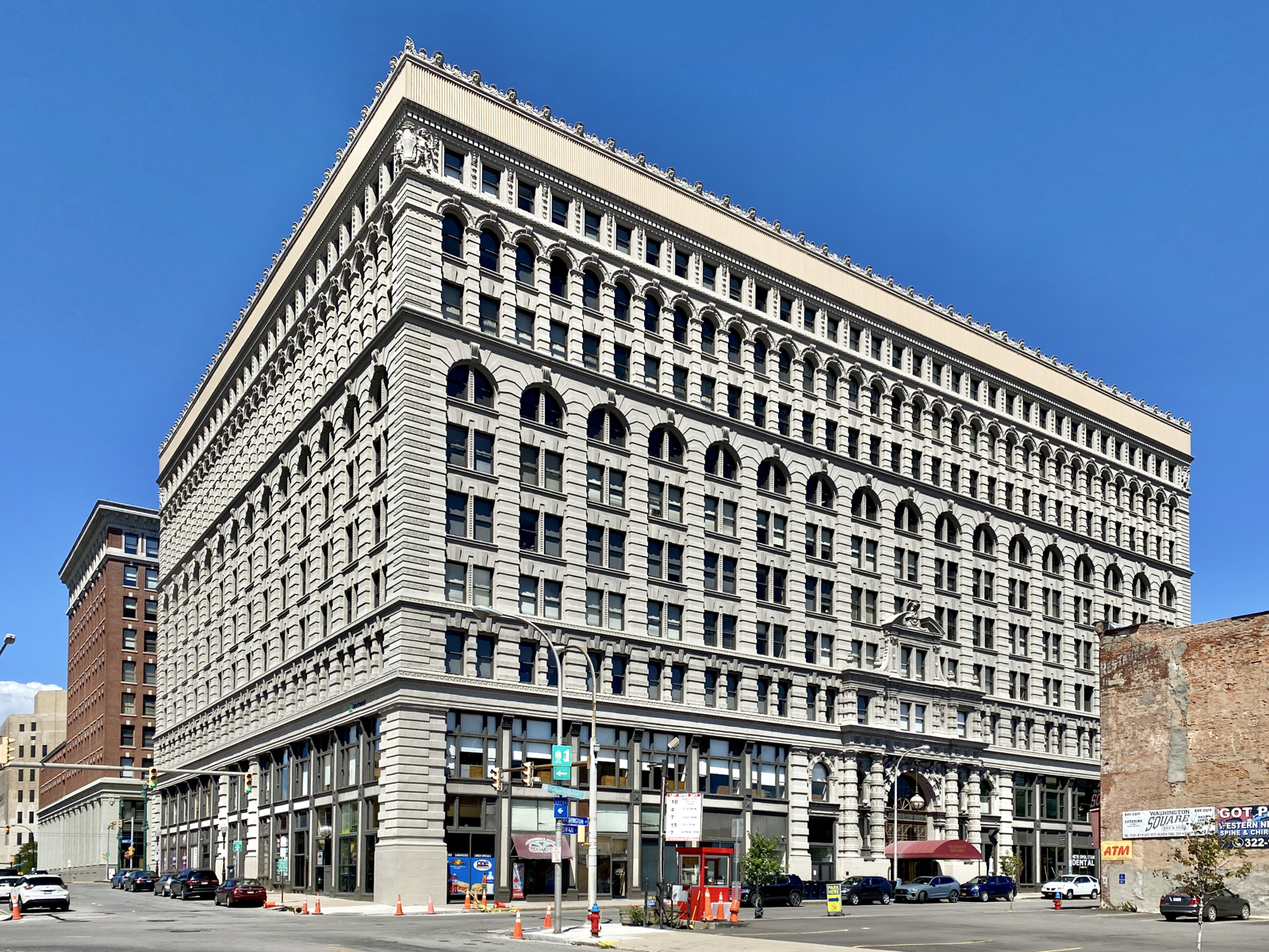fachada: (161, 42, 1192, 920), (40, 463, 172, 889), (1095, 621, 1269, 918), (3, 695, 74, 865)
poste: (476, 587, 621, 912), (547, 627, 642, 939)
